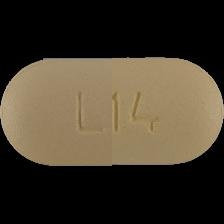68180-765: (0, 0, 224, 224)
